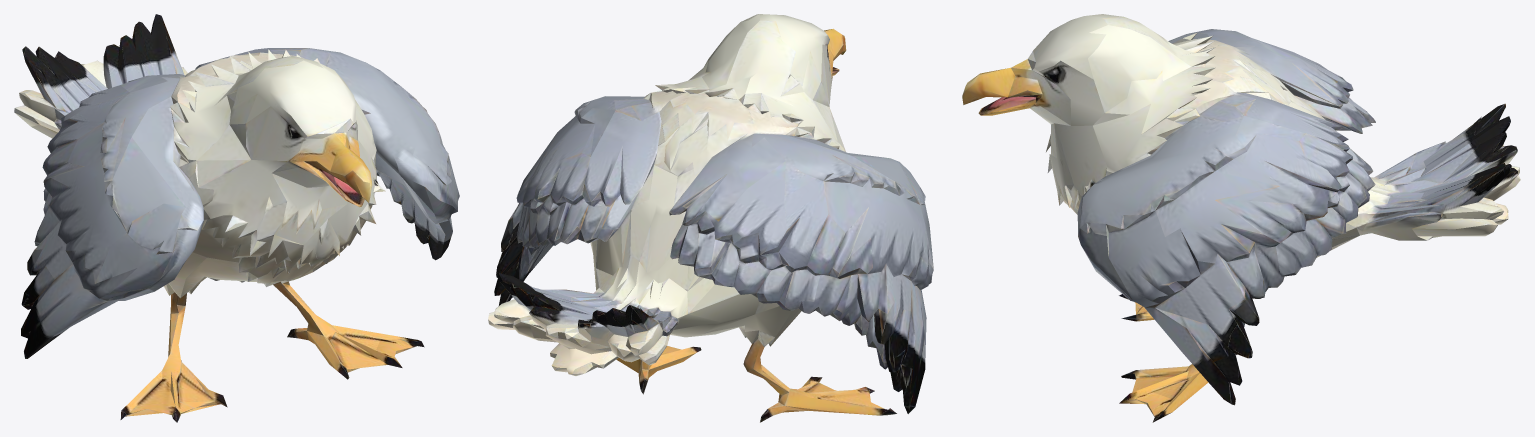
File: shore_gull.glb
3 renders of one model, left to right at view 1: azimuth 30°, elevation 25°; view 2: azimuth 150°, elevation 25°; view 3: azimuth 270°, elevation 25°, orthographic. The views are drawn at different scales.
Size of the model in its own units: 1.59 by 1.24 by 1.9.
1 material, 1 textured.
